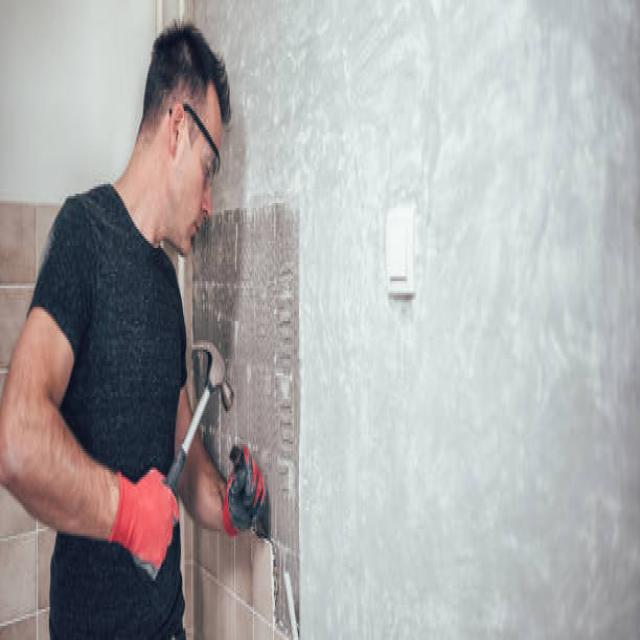gloves: (107, 468, 182, 576), (222, 437, 272, 543)
